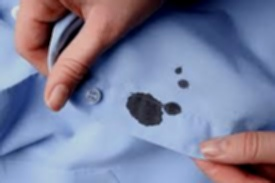wine: (121, 94, 181, 126), (169, 79, 192, 95), (170, 61, 187, 77)
